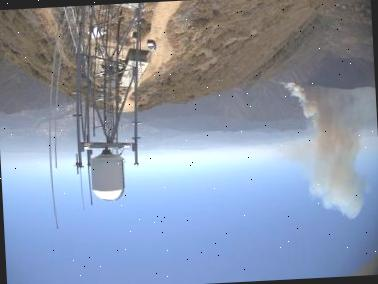smoke: (283, 75, 372, 225)
